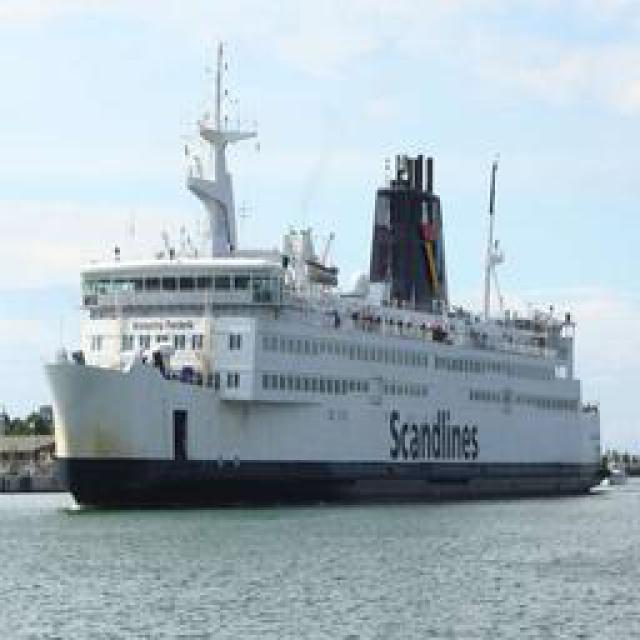Ship: (49, 125, 609, 503)
